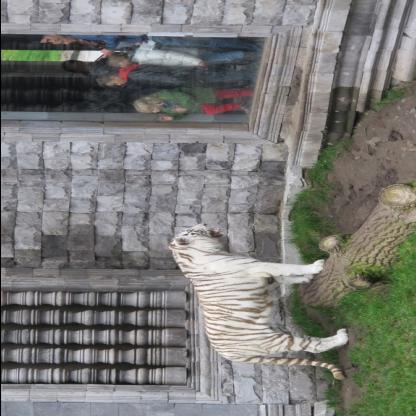tiger: (162, 221, 232, 252)
